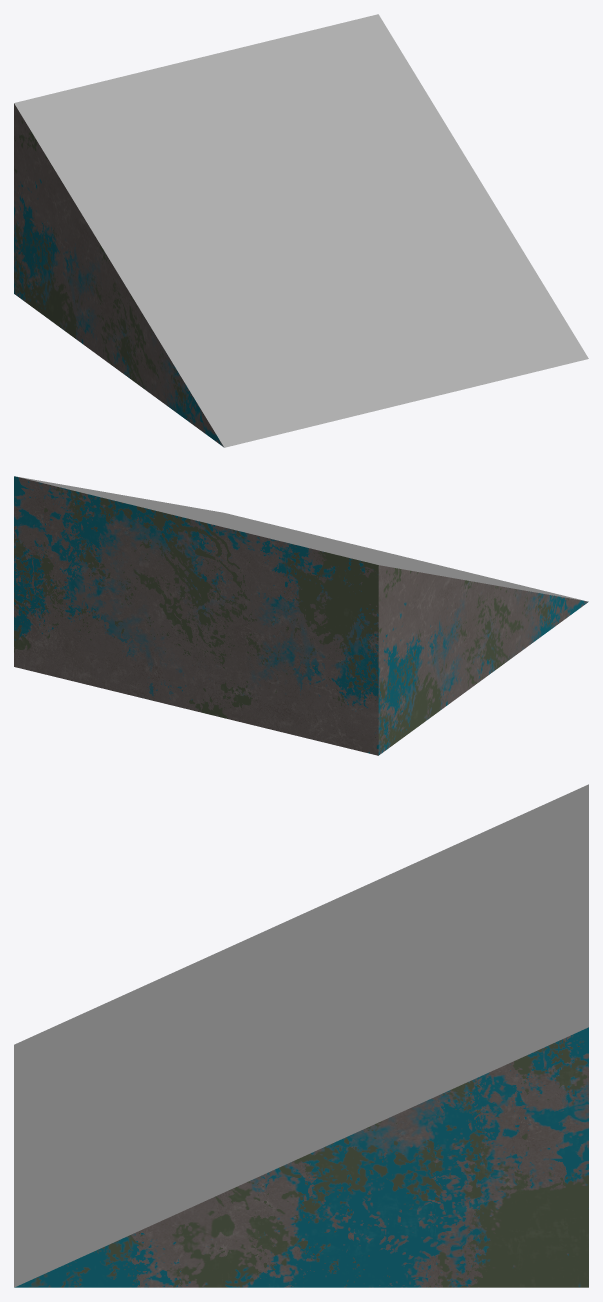
File: SM_Ramp_01.fbx
3 views of the same model, one above another, from view 1: azimuth 30°, elevation 25°; view 2: azimuth 150°, elevation 25°; view 3: azimuth 270°, elevation 25° (orthographic). The views are drawn at different scales.
Parts seen in each view (by area): view 1: Ramp; view 2: Ramp; view 3: Ramp.
Part boxes in pixels (x1=…): Ramp: x1=14, y1=14, x2=588, y2=447; Ramp: x1=14, y1=476, x2=588, y2=755; Ramp: x1=14, y1=784, x2=588, y2=1287.
Bounding box in the file's own units: 500 × 250 × 500.
